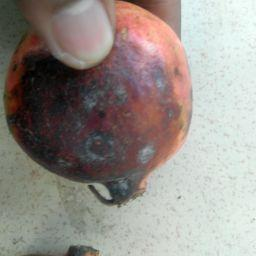pomegranate: (3, 0, 193, 208)
